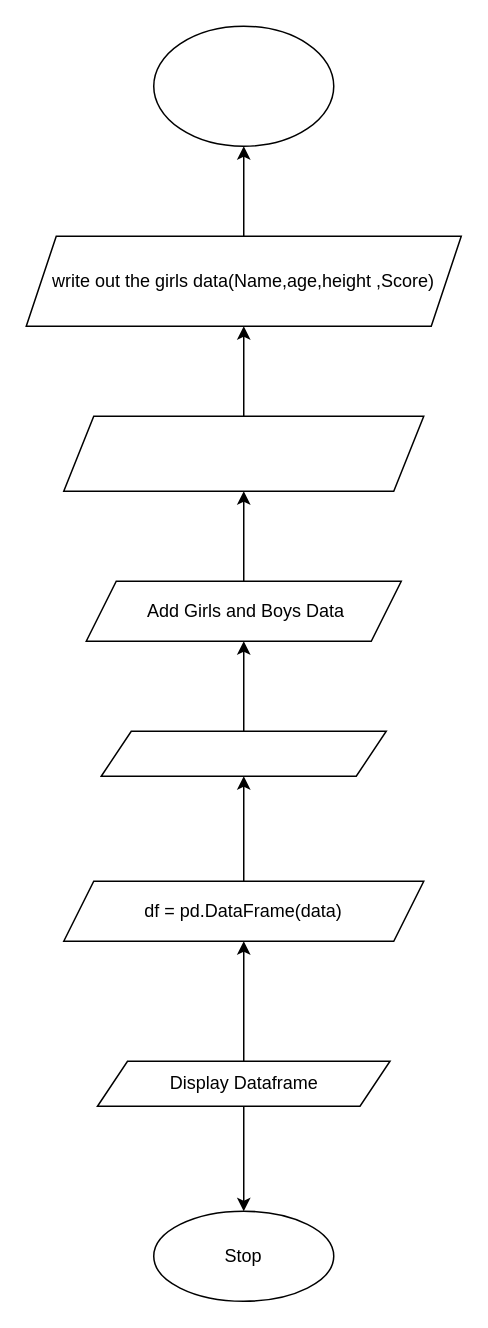
Image size: 488x1328. Some labels were removed from this diagram. The centre of each missing label's shape, as x and y in pixels:
Create a Dataframe from import panda: point 243,753
Start: point 243,85
Write out Boys data (Nmae,Age ,Height,Score): point 243,453
